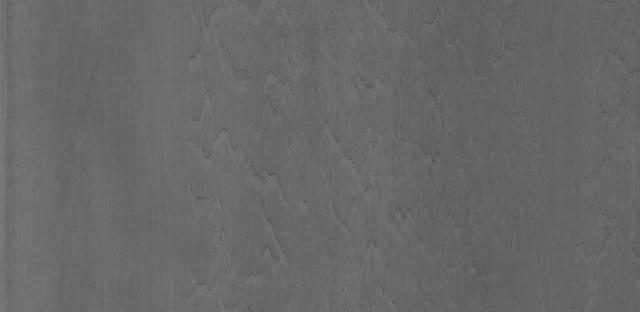silk_spot: (175, 11, 507, 300)
